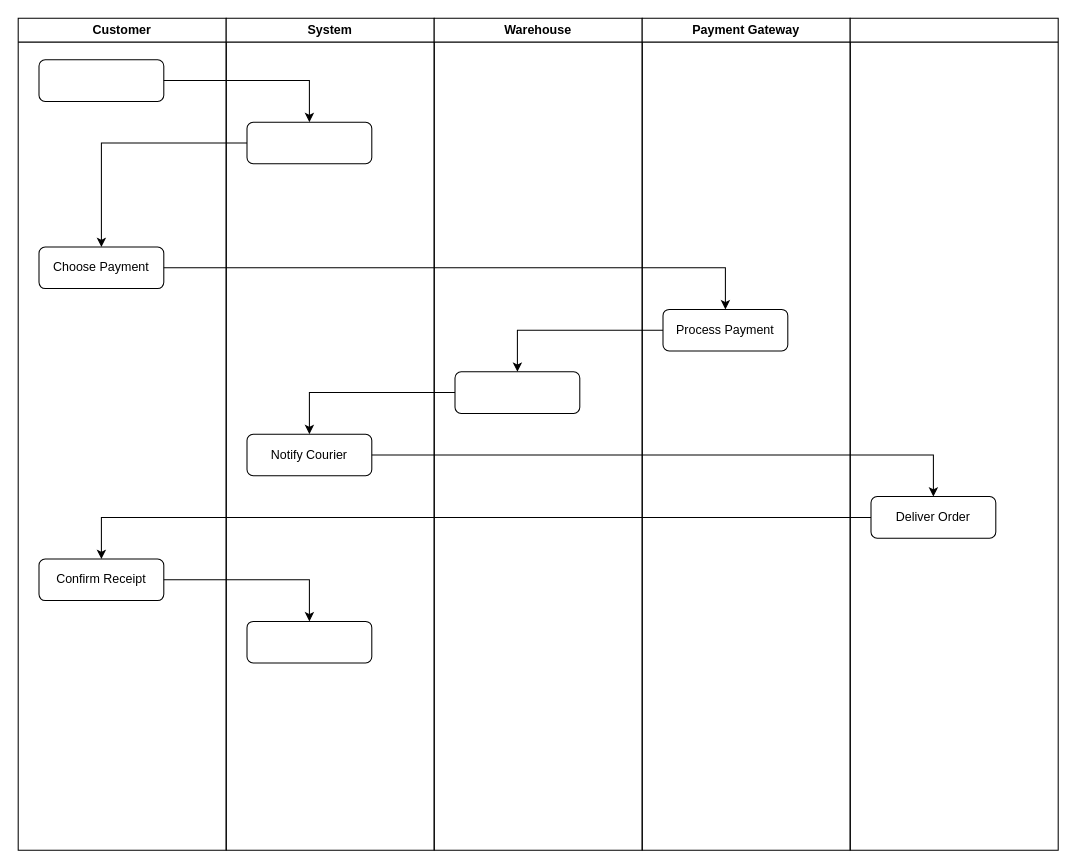
Image size: 1076x868. Some labels were removed from this diagram. The shapes that lost their labels are listed below. From the top down, each one's box as (x1, y1, x2, y2) in pixels, then its label:
(38, 59, 164, 101): Place Order
(246, 121, 372, 164): Check Stock
(454, 371, 580, 413): Assemble Order
(849, 17, 1058, 850): Courier Service
(246, 620, 372, 663): Complete Order
